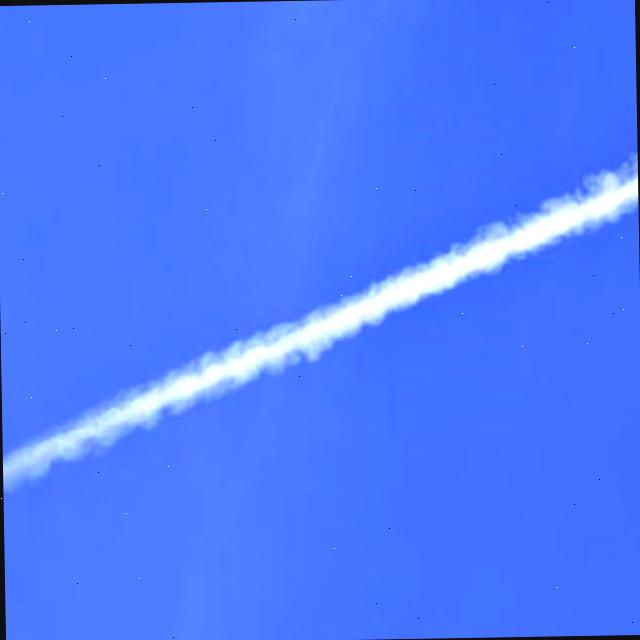Ct: (1, 82, 640, 557)
